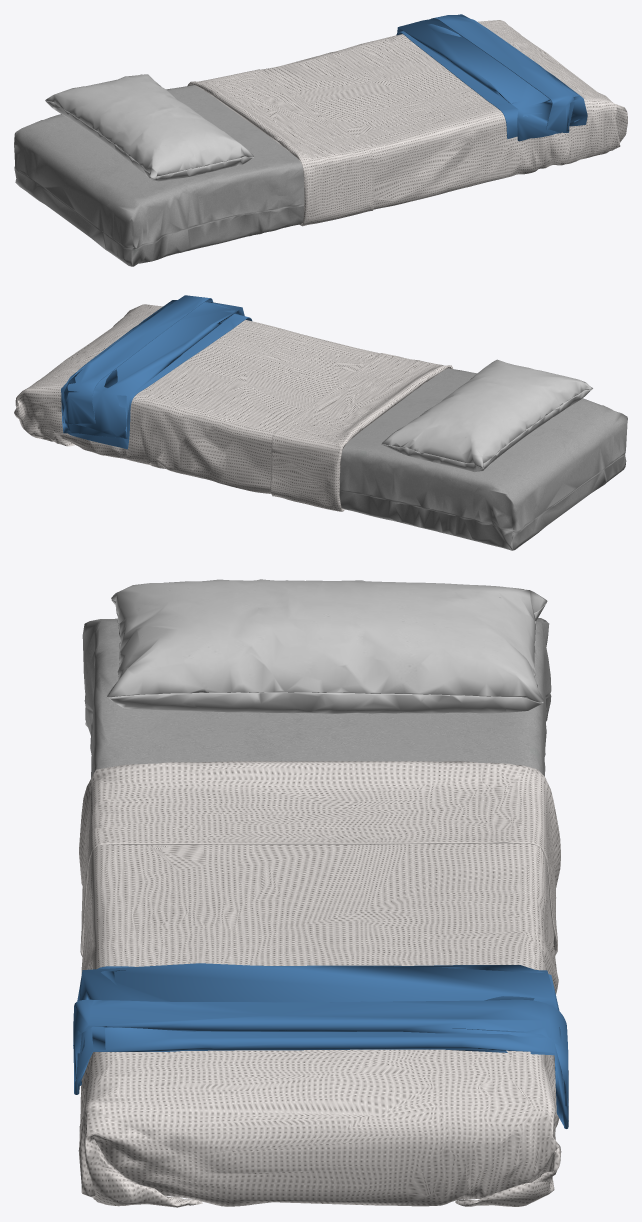
Rendered from bedding_a01.glb.
3 renders of one model, top to bottom at view 1: azimuth 30°, elevation 25°; view 2: azimuth 150°, elevation 25°; view 3: azimuth 270°, elevation 25°, orthographic. The views are drawn at different scales.
Parts seen in each view (by area): view 1: sm_bedding_a01_01; view 2: sm_bedding_a01_01; view 3: sm_bedding_a01_01.
Boxes of the visible parts, bbox=[...] form: sm_bedding_a01_01: bbox=[14, 14, 627, 266]; sm_bedding_a01_01: bbox=[14, 295, 627, 550]; sm_bedding_a01_01: bbox=[73, 579, 568, 1207].
Size of the model in its own units: 2.03 by 0.3988 by 0.8698.
4 materials, 3 textured.
